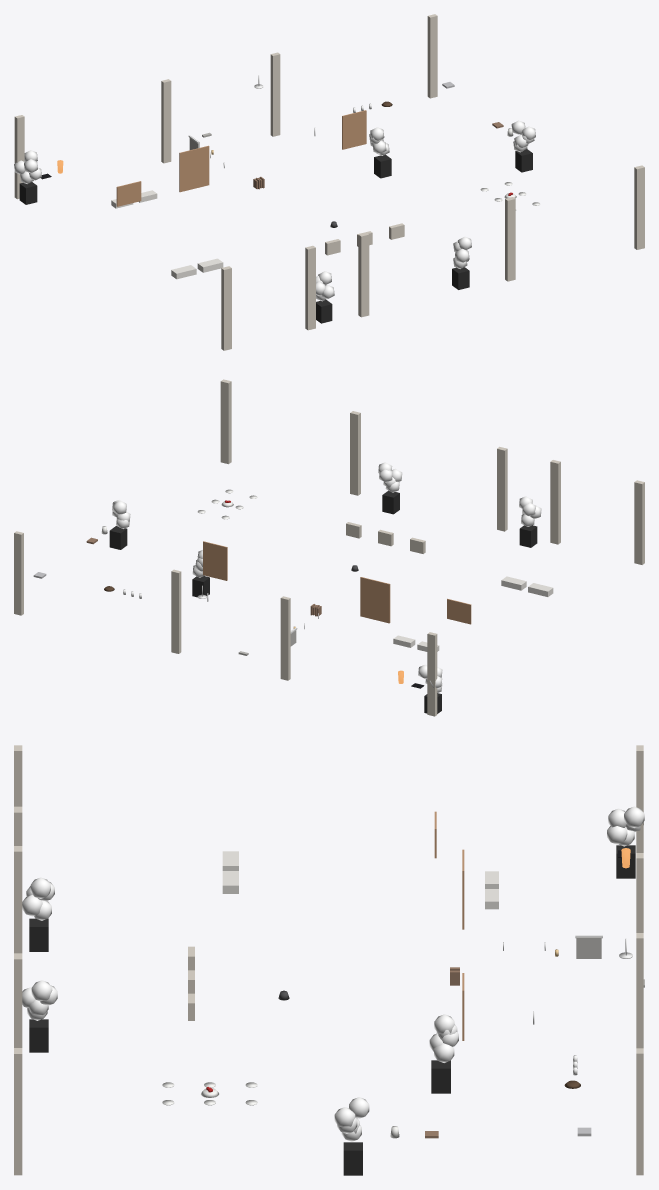
Rendered from interior_detail_B.glb.
The picture shows the model from 3 angles, top to bottom: view 1: azimuth 30°, elevation 25°; view 2: azimuth 150°, elevation 25°; view 3: azimuth 270°, elevation 25°; orthographic projection. The views are drawn at different scales.
Visible parts, largest first — view 1: InteriorProps_B; view 2: InteriorProps_B; view 3: InteriorProps_B.
Part boxes in pixels (<box>): InteriorProps_B: <box>14,14,644,350</box>; InteriorProps_B: <box>14,379,644,716</box>; InteriorProps_B: <box>14,745,644,1175</box>.
Size of the model in its own units: 15.92 by 2.95 by 13.65.
